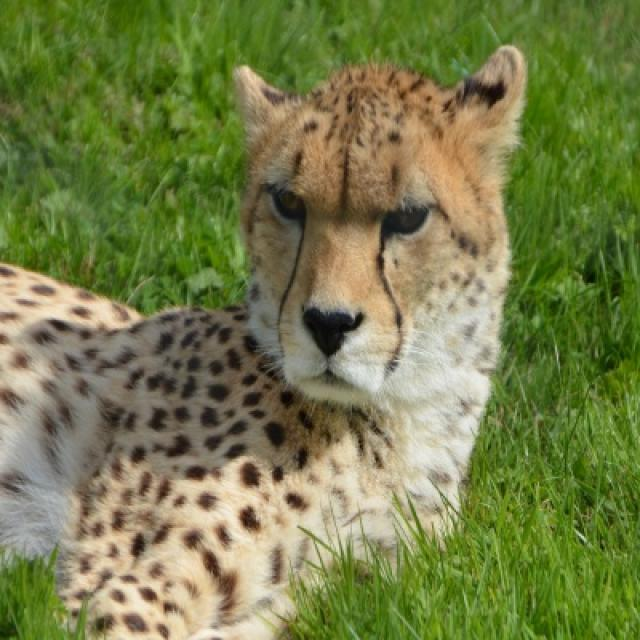Cheetah: (0, 45, 528, 638)
